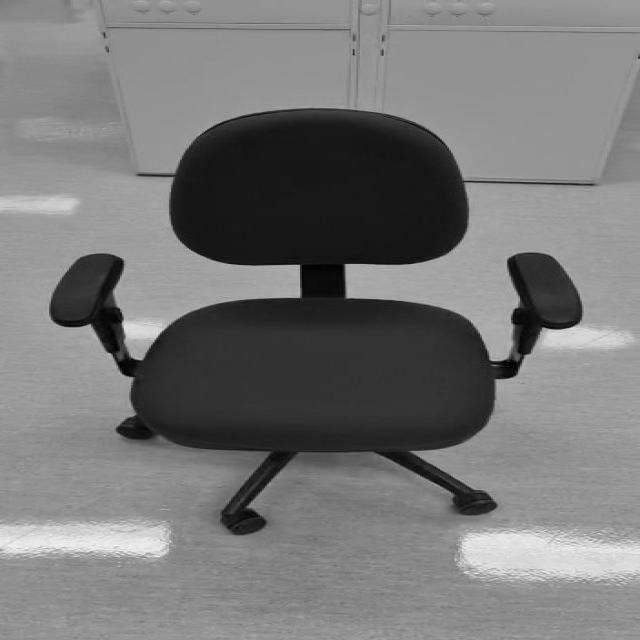cadeira-azul: (51, 109, 584, 534)
